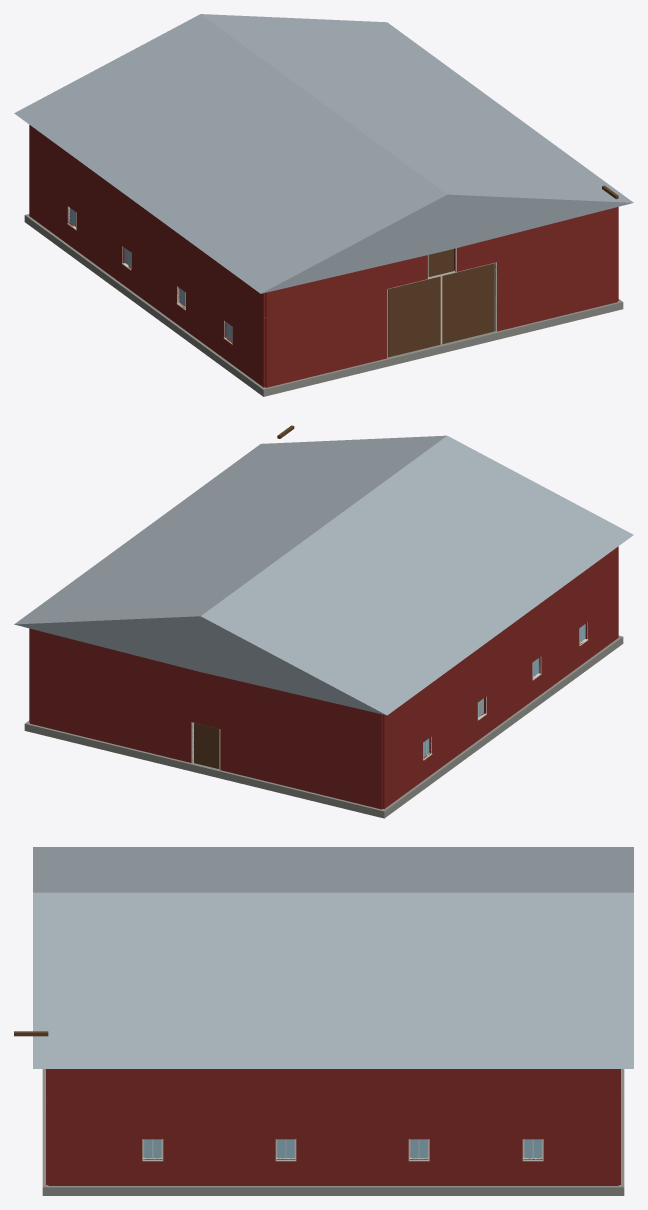
Rendered from FM_Barn_01.glb.
3 views of the same model, one above another, from view 1: azimuth 30°, elevation 25°; view 2: azimuth 150°, elevation 25°; view 3: azimuth 270°, elevation 25° (orthographic). The views are drawn at different scales.
Visible parts, largest first — view 1: FM_Barn_01; view 2: FM_Barn_01; view 3: FM_Barn_01.
Part boxes in pixels (<box>): FM_Barn_01: <box>14,14,633,396</box>; FM_Barn_01: <box>14,425,633,818</box>; FM_Barn_01: <box>14,847,633,1195</box>.
Size of the model in its own units: 27.6 by 11.4 by 32.6.
Materials: 1 (1 with a texture image).
